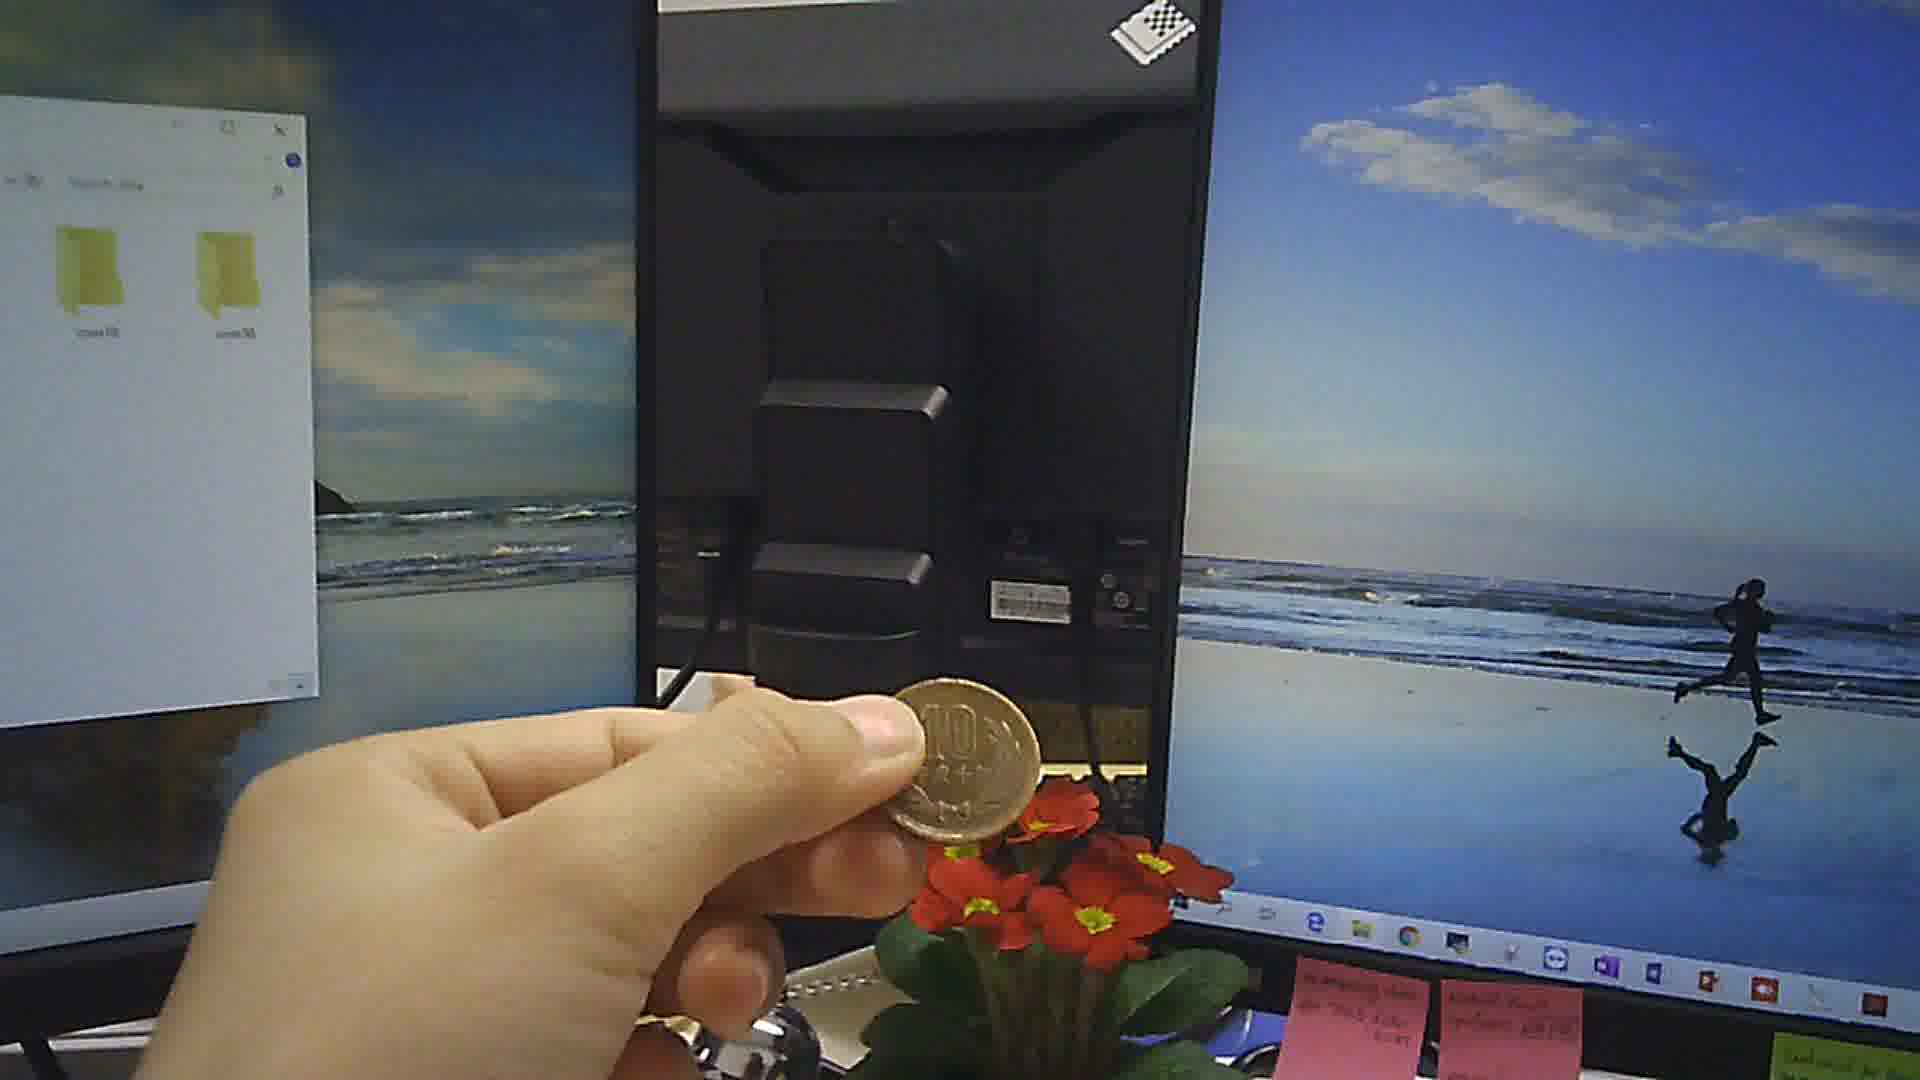10 Yen: (869, 671, 1043, 844)
